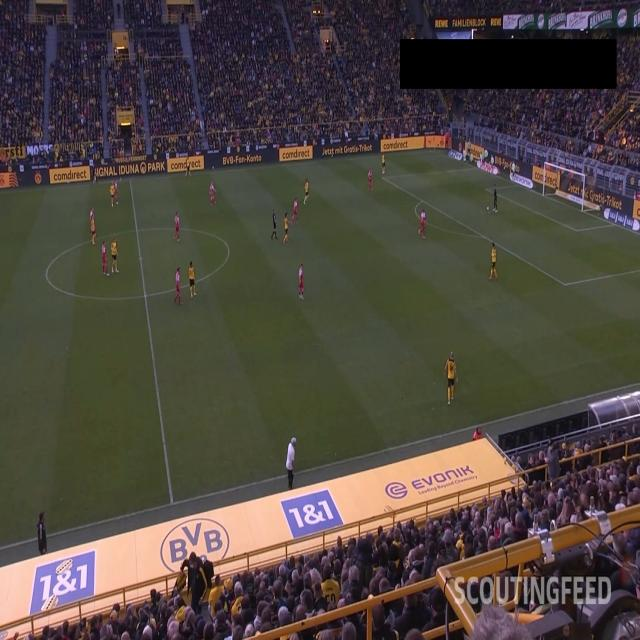ball: (486, 205, 490, 212)
f_player: (444, 350, 458, 405), (487, 242, 499, 280), (98, 240, 110, 276), (188, 262, 198, 298), (87, 208, 97, 244), (418, 206, 429, 238), (110, 241, 120, 275), (291, 196, 301, 226), (173, 267, 181, 303), (298, 264, 306, 298), (492, 184, 501, 214), (110, 182, 120, 208), (282, 212, 290, 244), (172, 214, 180, 242), (303, 178, 311, 204), (271, 211, 278, 240), (208, 183, 216, 207), (380, 156, 388, 176), (368, 168, 374, 190)
